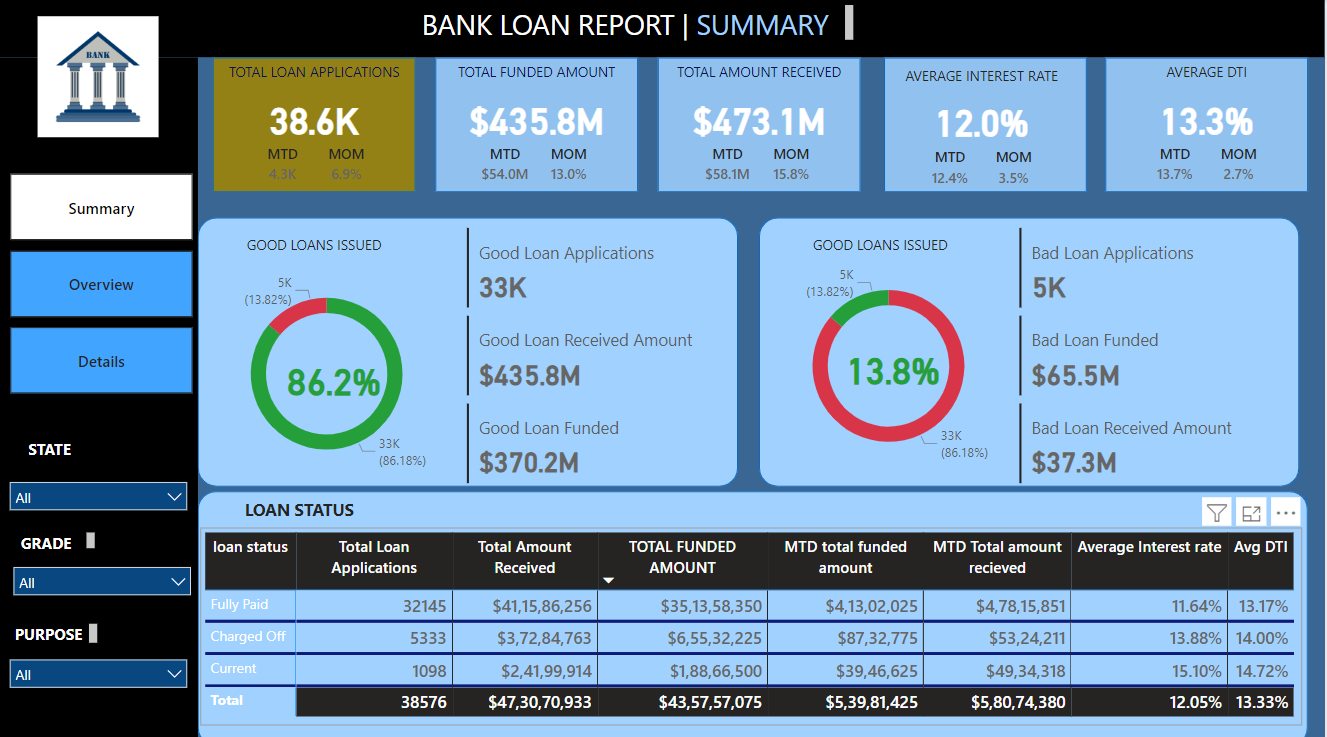

The page's visual inventory and layout, read from the dashboard file:
{"tool":"powerbi","page":{"name":"Summary","canvas":[1280,720],"ordinal":0},"visuals":[{"type":"shape","box":[0,0,1280,55.5],"z":0},{"type":"shape","box":[206.5,55.2,195.8,129.9],"z":0,"group":"g2"},{"type":"shape","box":[421,55.2,195.8,129.9],"z":0,"group":"g1"},{"type":"shape","box":[635.4,55.2,195.8,129.9],"z":0,"group":"g4"},{"type":"shape","box":[853.4,55.2,195.8,129.9],"z":0,"group":"g5"},{"type":"shape","box":[1067.9,55.2,195.8,129.9],"z":0,"group":"g6"},{"type":"textbox","box":[402.5,0,426.7,44.1],"z":1000},{"type":"card","fields":{"Values":["financial_loan.Total Loan Applications"]},"box":[206.5,87.2,195.8,51.6],"z":1000,"group":"g2"},{"type":"card","fields":{"Values":["financial_loan.TOTAL FUNDED AMOUNT"]},"box":[421,87.2,195.8,51.6],"z":1000,"group":"g1"},{"type":"card","fields":{"Values":["financial_loan.Total Amount Received"]},"box":[635.4,87.2,195.8,51.6],"z":1000,"group":"g4"},{"type":"card","fields":{"Values":["financial_loan.Avg DTI"]},"box":[1067.9,87.2,195.8,51.6],"z":1000,"group":"g6"},{"type":"card","fields":{"Values":["financial_loan.Average Interest rate"]},"box":[850,90.3,195.8,51.6],"z":1000,"group":"g5"},{"type":"textbox","box":[206.5,55.2,195.8,32],"z":2000,"group":"g2"},{"type":"textbox","box":[421,55.2,195.8,32],"z":2000,"group":"g1"},{"type":"textbox","box":[635.4,55.2,195.8,32],"z":2000,"group":"g4"},{"type":"textbox","box":[1067.9,55.2,195.8,32],"z":2000,"group":"g6"},{"type":"textbox","box":[850,58.3,195.8,32],"z":2000,"group":"g5"},{"type":"shape","box":[192.2,474.4,1071.4,245.6],"z":2000},{"type":"shape","box":[0,55.2,192.2,663.9],"z":3000},{"type":"card","title":"MTD","fields":{"Values":["financial_loan.MTD Loan Applications"]},"box":[242.1,138.8,62.3,46.3],"z":3000,"group":"g2"},{"type":"card","title":"MTD","fields":{"Values":["financial_loan.MTD total funded amount"]},"box":[456.6,138.8,62.3,46.3],"z":3000,"group":"g1"},{"type":"card","title":"MTD","fields":{"Values":["financial_loan.MTD Total amount recieved"]},"box":[671,138.8,62.3,46.3],"z":3000,"group":"g4"},{"type":"card","title":"MTD","fields":{"Values":["financial_loan.MTD avg dti"]},"box":[1103.5,138.8,62.3,46.3],"z":3000,"group":"g6"},{"type":"card","title":"MTD","fields":{"Values":["financial_loan.MTD avg interest rate"]},"box":[885.6,141.9,62.3,46.3],"z":3000,"group":"g5"},{"type":"card","title":"MOM","fields":{"Values":["financial_loan.MoM Loan Applications"]},"box":[304.4,138.8,62.3,46.3],"z":4000,"group":"g2"},{"type":"card","title":"MOM","fields":{"Values":["financial_loan.MoM Funded Amount"]},"box":[518.9,138.8,62.3,46.3],"z":4000,"group":"g1"},{"type":"card","title":"MOM","fields":{"Values":["financial_loan.MoM total Amount received"]},"box":[733.3,138.8,62.3,46.3],"z":4000,"group":"g4"},{"type":"card","title":"MOM","fields":{"Values":["financial_loan.MoM avg dti"]},"box":[1165.8,138.8,62.3,46.3],"z":4000,"group":"g6"},{"type":"card","title":"MOM","fields":{"Values":["financial_loan.MoM avg interest rate"]},"box":[947.9,141.9,62.3,46.3],"z":4000,"group":"g5"},{"type":"textbox","box":[2.4,418.6,92.9,31.4],"z":4000},{"type":"group","id":"g1","title":"Group 2","box":[421,55.2,195.8,129.9],"z":4001,"group":"g3"},{"type":"textbox","box":[192.2,475.2,195.8,33],"z":5000},{"type":"shape","box":[192.2,210,521.5,259.8],"z":6000},{"type":"textbox","box":[206.5,222.5,195.8,33.8],"z":7000},{"type":"card","fields":{"Values":["financial_loan.Good Loan %"]},"box":[226,339.9,195.8,51.6],"z":8000},{"type":"group","id":"g2","title":"Group 1","box":[206.5,55.2,195.8,129.9],"z":9000},{"type":"group","id":"g3","title":"Group 1","box":[421,55.2,195.8,129.9],"z":10000},{"type":"group","id":"g4","title":"Group 2","box":[635.4,55.2,195.8,129.9],"z":11000},{"type":"group","id":"g5","title":"Group 2","box":[850,55.2,199.2,133],"z":12000},{"type":"group","id":"g6","title":"Group 2","box":[1067.9,55.2,195.8,129.9],"z":13000},{"type":"shape","box":[733.3,210,521.5,259.8],"z":14000},{"type":"donutChart","fields":{"Category":["financial_loan.Good Vs Bad Loan"],"Y":["financial_loan.Total Loan Applications"]},"box":[192.2,245.6,249.2,229.6],"z":15000},{"type":"cardVisual","fields":{"Data":["financial_loan.Good Loan Applications","financial_loan.Good Loan Received Amount","financial_loan.Good Loan Funded"]},"box":[444.9,213.6,272.3,261.6],"z":16000},{"type":"donutChart","fields":{"Category":["financial_loan.Good Vs Bad Loan"],"Y":["financial_loan.Total Loan Applications"]},"box":[733.9,238.9,250.3,229],"z":17000},{"type":"textbox","box":[752.8,222.5,195.8,33.8],"z":18000},{"type":"card","fields":{"Values":["financial_loan.Bad Loan %"]},"box":[765.2,330,196.3,52.6],"z":19000},{"type":"cardVisual","fields":{"Data":["financial_loan.Bad Loan Applications","financial_loan.Bad Loan Funded","financial_loan.Bad Loan Received Amount"]},"box":[978.9,213.6,272.3,261.6],"z":20000},{"type":"pivotTable","fields":{"Rows":["financial_loan.loan_status"],"Values":["financial_loan.Total Loan Applications","financial_loan.Total Amount Received","financial_loan.TOTAL FUNDED AMOUNT","financial_loan.MTD total funded amount","financial_loan.MTD Total amount recieved","financial_loan.Average Interest rate","financial_loan.Avg DTI"]},"box":[194,509,1062.5,190.4],"z":21000},{"type":"slicer","fields":{"Values":["financial_loan.address_state"]},"box":[0,454.8,191.8,41],"z":22000},{"type":"slicer","fields":{"Values":["financial_loan.grade"]},"box":[3.6,536.9,191.8,41],"z":23000},{"type":"textbox","box":[1.2,509.1,96.5,27.7],"z":24000},{"type":"slicer","fields":{"Values":["financial_loan.purpose"]},"box":[0,626.1,191.8,41],"z":25000},{"type":"textbox","box":[3.6,597.2,96.5,29],"z":26000},{"type":"pageNavigator","box":[10.9,167.7,176.1,214.7],"z":27000},{"type":"image","box":[3.6,10.9,183.4,126.7],"z":28000}]}

Visuals, with their boxes in screenshot pixels (x1, y1, x2, y2), scaled from the page's 1280x720 canvas onto the 1327x737 screenshot:
shape: detection(0, 0, 1326, 57)
shape: detection(214, 57, 417, 189)
shape: detection(436, 57, 639, 189)
shape: detection(659, 57, 862, 189)
shape: detection(885, 57, 1088, 189)
shape: detection(1107, 57, 1310, 189)
textbox: detection(417, 0, 860, 45)
card - financial_loan.Total Loan Applications: detection(214, 89, 417, 142)
card - financial_loan.TOTAL FUNDED AMOUNT: detection(436, 89, 639, 142)
card - financial_loan.Total Amount Received: detection(659, 89, 862, 142)
card - financial_loan.Avg DTI: detection(1107, 89, 1310, 142)
card - financial_loan.Average Interest rate: detection(881, 92, 1084, 145)
textbox: detection(214, 57, 417, 89)
textbox: detection(436, 57, 639, 89)
textbox: detection(659, 57, 862, 89)
textbox: detection(1107, 57, 1310, 89)
textbox: detection(881, 60, 1084, 92)
shape: detection(199, 486, 1310, 736)
shape: detection(0, 57, 199, 736)
"MTD" card: detection(251, 142, 316, 189)
"MTD" card: detection(473, 142, 538, 189)
"MTD" card: detection(696, 142, 760, 189)
"MTD" card: detection(1144, 142, 1209, 189)
"MTD" card: detection(918, 145, 983, 193)
"MOM" card: detection(316, 142, 380, 189)
"MOM" card: detection(538, 142, 603, 189)
"MOM" card: detection(760, 142, 825, 189)
"MOM" card: detection(1209, 142, 1273, 189)
"MOM" card: detection(983, 145, 1047, 193)
textbox: detection(2, 428, 99, 461)
"Group 2" group: detection(436, 57, 639, 189)
textbox: detection(199, 486, 402, 520)
shape: detection(199, 215, 740, 481)
textbox: detection(214, 228, 417, 262)
card - financial_loan.Good Loan %: detection(234, 348, 437, 401)
"Group 1" group: detection(214, 57, 417, 189)
"Group 1" group: detection(436, 57, 639, 189)
"Group 2" group: detection(659, 57, 862, 189)
"Group 2" group: detection(881, 57, 1088, 193)
"Group 2" group: detection(1107, 57, 1310, 189)
shape: detection(760, 215, 1301, 481)
donutChart - financial_loan.Good Vs Bad Loan x financial_loan.Total Loan Applications: detection(199, 251, 458, 486)
cardVisual - financial_loan.Good Loan Applications x financial_loan.Good Loan Received Amount: detection(461, 219, 744, 486)
donutChart - financial_loan.Good Vs Bad Loan x financial_loan.Total Loan Applications: detection(761, 245, 1020, 479)
textbox: detection(780, 228, 983, 262)
card - financial_loan.Bad Loan %: detection(793, 338, 997, 392)
cardVisual - financial_loan.Bad Loan Applications x financial_loan.Bad Loan Funded: detection(1015, 219, 1297, 486)
pivotTable - financial_loan.loan_status x financial_loan.Total Loan Applications: detection(201, 521, 1303, 716)
slicer - financial_loan.address_state: detection(0, 466, 199, 508)
slicer - financial_loan.grade: detection(4, 550, 203, 592)
textbox: detection(1, 521, 101, 549)
slicer - financial_loan.purpose: detection(0, 641, 199, 683)
textbox: detection(4, 611, 104, 641)
pageNavigator: detection(11, 172, 194, 391)
image: detection(4, 11, 194, 141)
